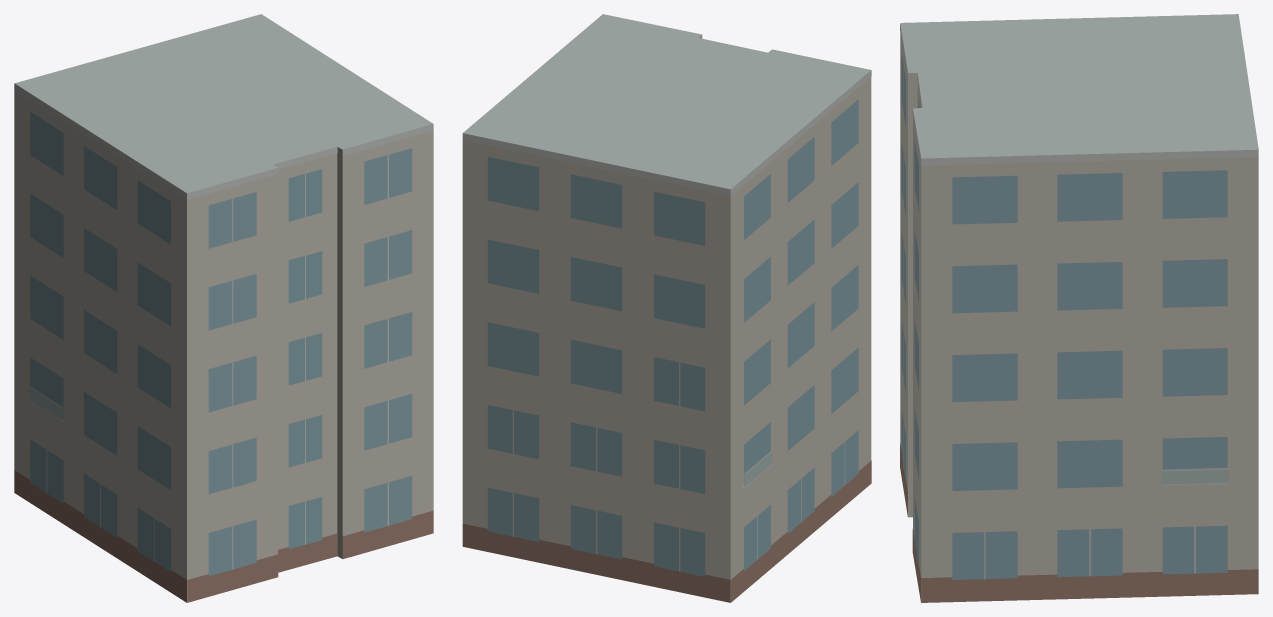
Rendered from survey-upis-32531853.glb.
3 renders of one model, left to right at view 1: azimuth 30°, elevation 25°; view 2: azimuth 150°, elevation 25°; view 3: azimuth 270°, elevation 25°, orthographic. The views are drawn at different scales.
Visible parts, largest first — view 1: survey-upis-32531853.tmp; view 2: survey-upis-32531853.tmp; view 3: survey-upis-32531853.tmp.
Boxes of the visible parts, <box> form: survey-upis-32531853.tmp: <box>14,14,433,602</box>; survey-upis-32531853.tmp: <box>462,14,871,602</box>; survey-upis-32531853.tmp: <box>900,14,1258,602</box>.
Size of the model in its own units: 10.64 by 15.25 by 11.17.
